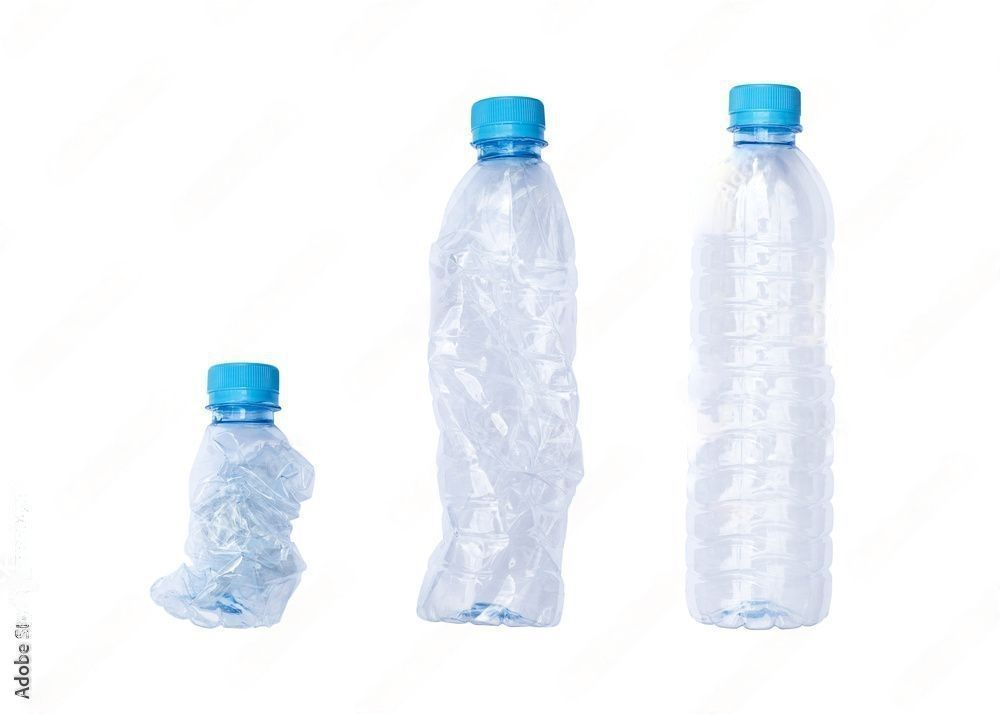plastic_bottle: (416, 92, 584, 632), (682, 82, 839, 633), (148, 358, 314, 631)
